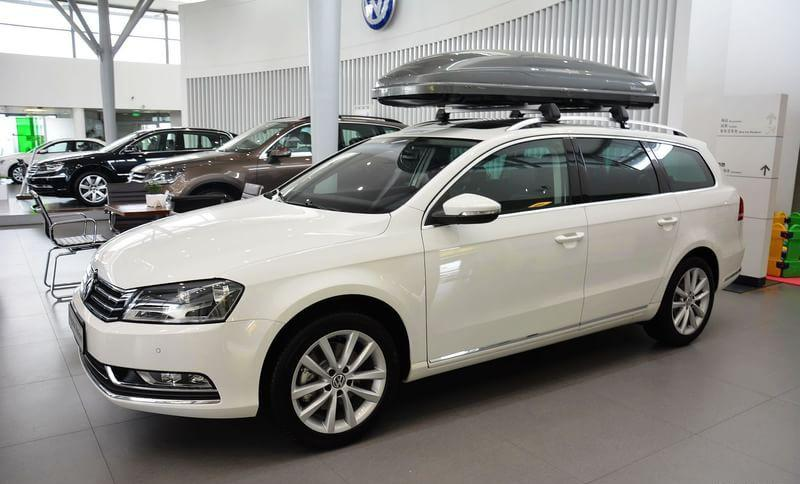Wagon: (68, 49, 747, 449)
